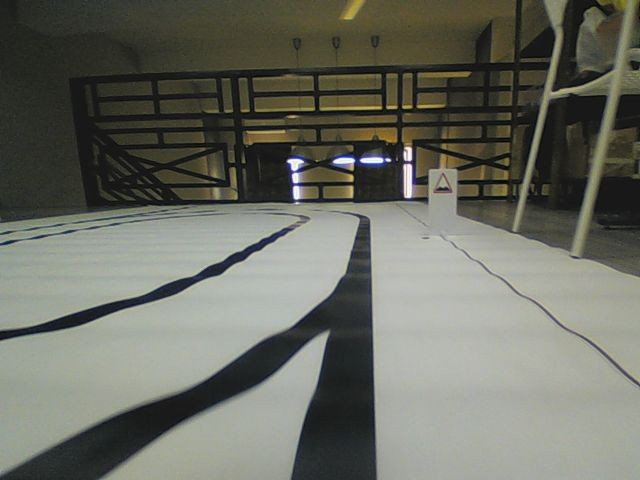Nerov: (431, 172, 454, 195)
